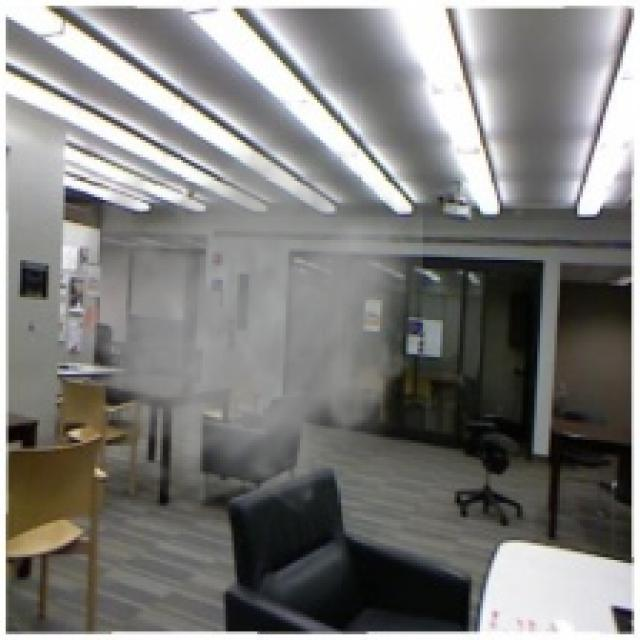smoke: (43, 134, 423, 517)
